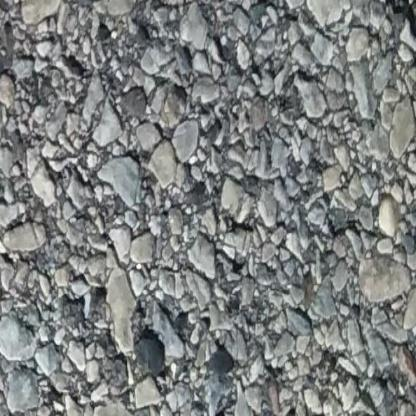Cracks: (363, 0, 416, 52)
